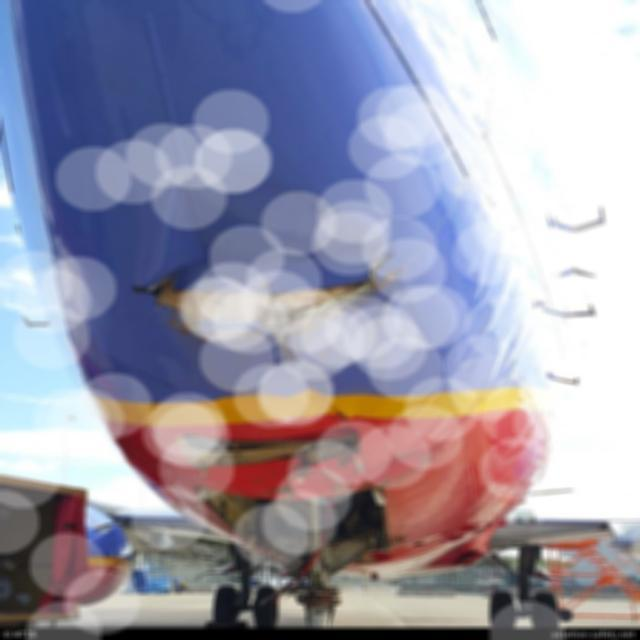crack: (364, 250, 409, 282)
